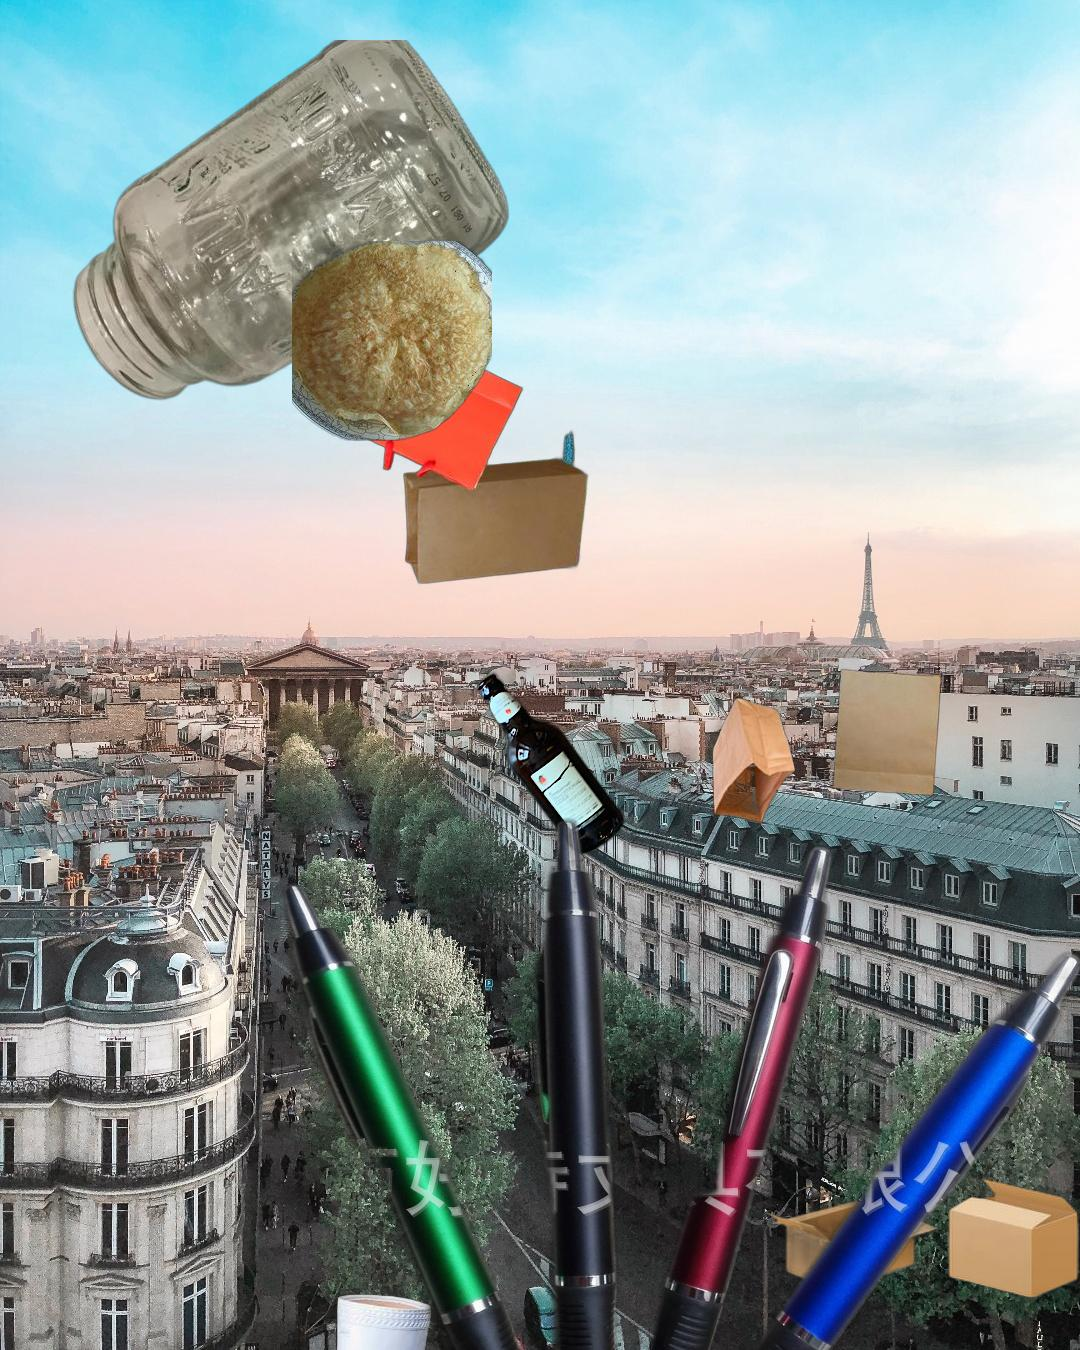biological: (292, 241, 492, 441)
glass: (69, 40, 514, 406), (473, 668, 629, 861)
paper-bag: (344, 324, 590, 586), (709, 648, 942, 831)
penholder: (276, 810, 1080, 1350)
shoes: (255, 1292, 434, 1350)
trashbox-cardboard: (754, 1050, 1080, 1350)
